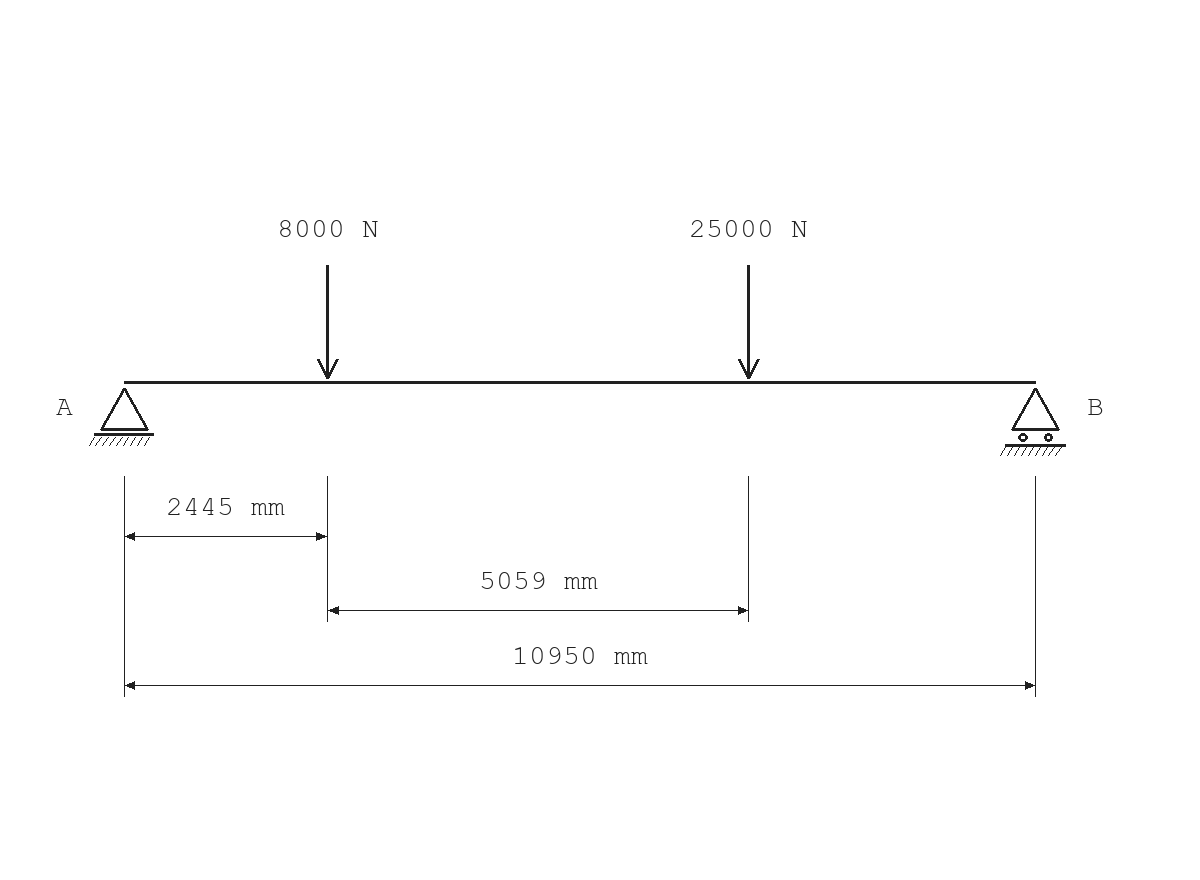pin_support: (89, 388, 154, 446)
point_load: (317, 265, 339, 379), (738, 265, 760, 379)
roller_support: (1000, 388, 1066, 456)
